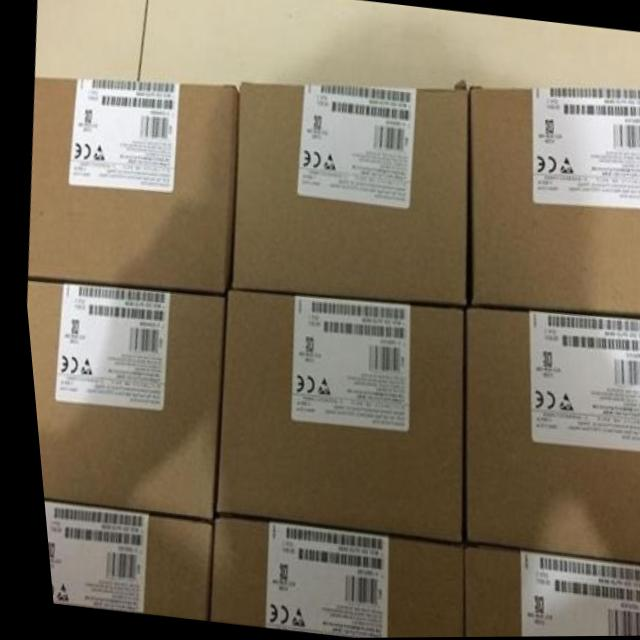box: (206, 290, 458, 545), (222, 84, 466, 305), (453, 305, 640, 565), (22, 280, 222, 522), (23, 77, 237, 294), (461, 87, 640, 317), (196, 516, 453, 638), (35, 500, 204, 618), (452, 544, 640, 638)
